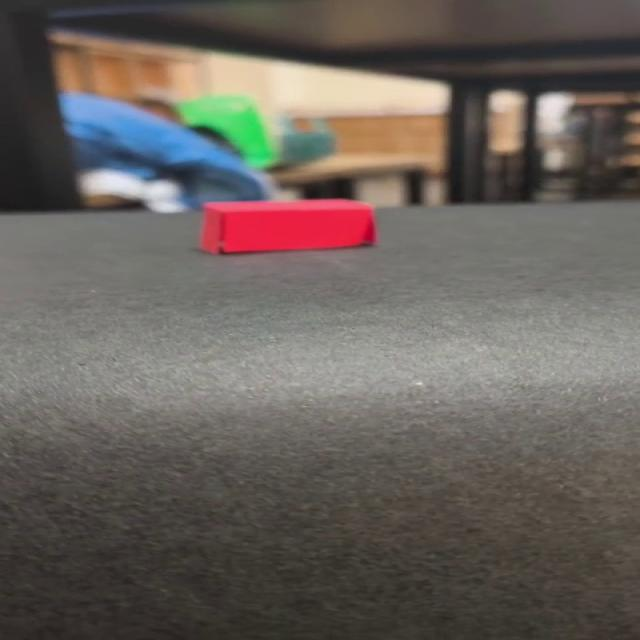red block: (198, 196, 378, 255)
